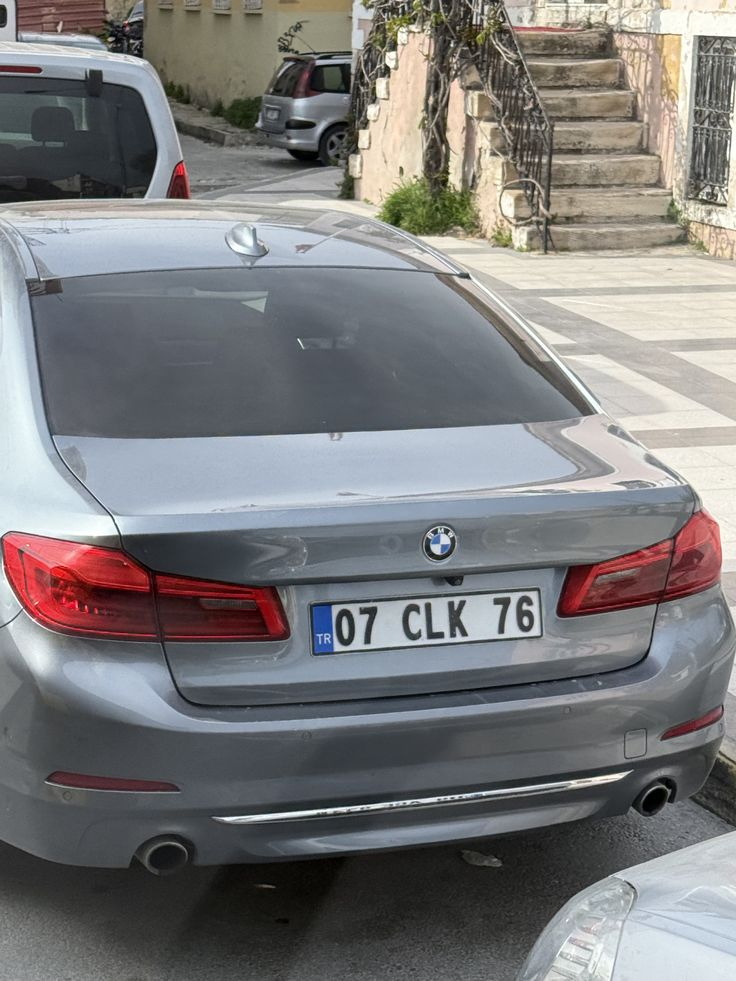plate: (299, 588, 545, 659)
